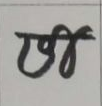i_matra: (53, 24, 75, 78)
